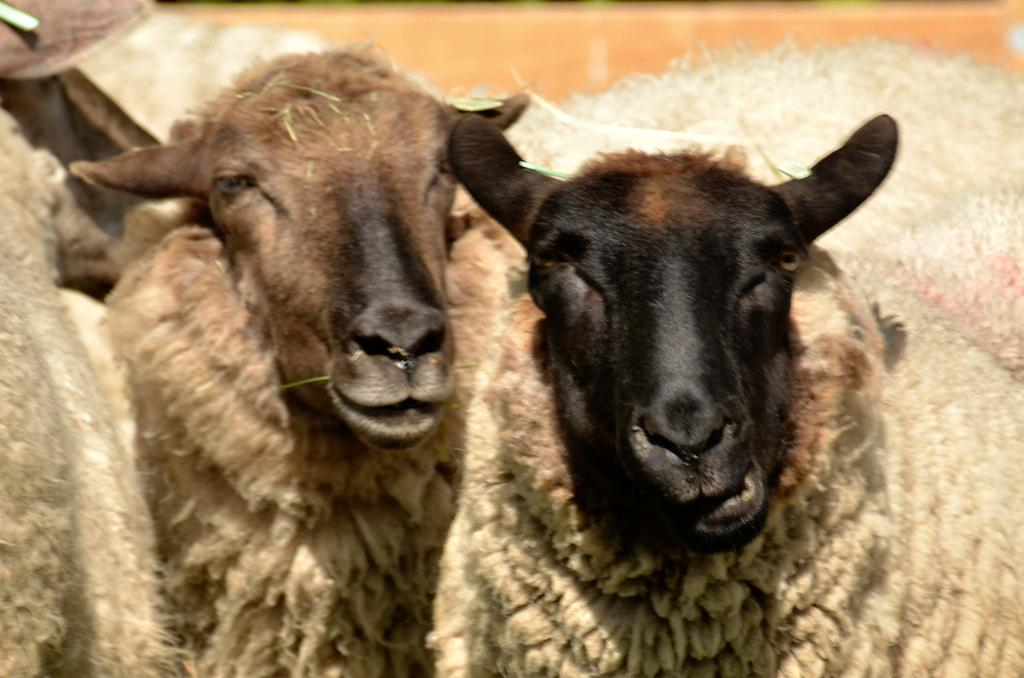Sheep: (436, 21, 1024, 678), (48, 38, 570, 678)
